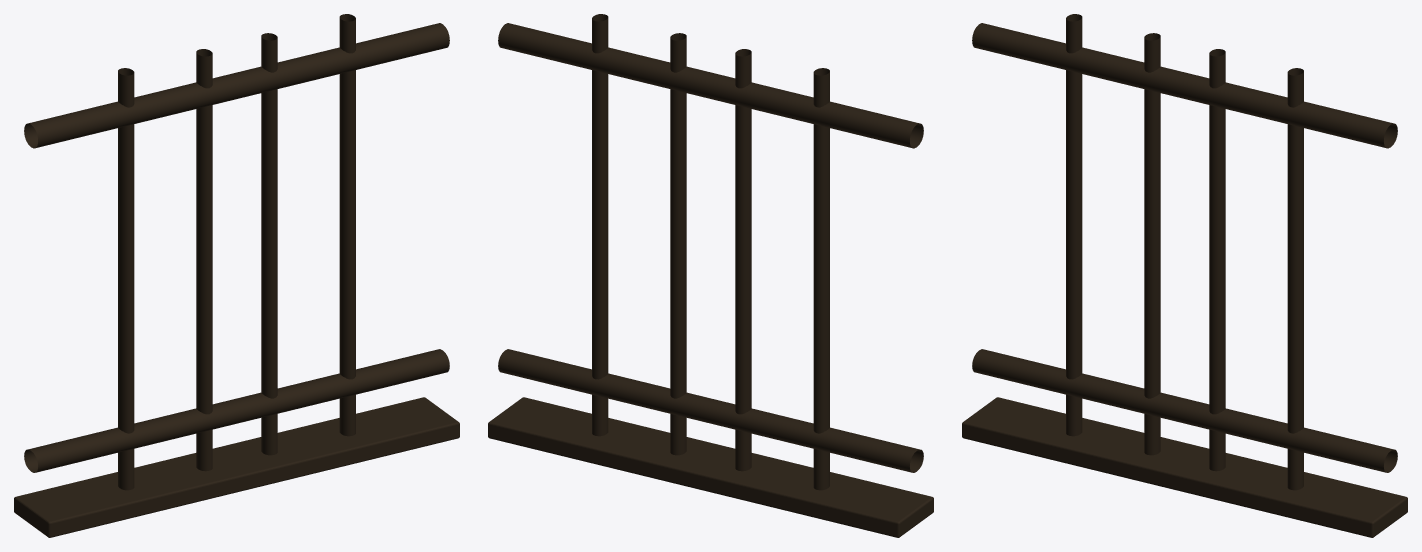
Rendered from GrataBot.fbx.
3 renders of one model, left to right at view 1: azimuth 30°, elevation 25°; view 2: azimuth 150°, elevation 25°; view 3: azimuth 330°, elevation 25°, orthographic.
Parts seen in each view (by area): view 1: Cube.004, GrataBot, Cube.041; view 2: Cube.004, GrataBot, Cube.041; view 3: Cube.004, GrataBot, Cube.041.
Part boxes in pixels (x1=…): Cube.004: x1=118, y1=14, x2=355, y2=490; GrataBot: x1=24, y1=23, x2=449, y2=472; Cube.041: x1=14, y1=397, x2=459, y2=537; Cube.004: x1=592, y1=14, x2=829, y2=490; GrataBot: x1=498, y1=23, x2=923, y2=472; Cube.041: x1=488, y1=397, x2=933, y2=537; Cube.004: x1=1066, y1=14, x2=1303, y2=490; GrataBot: x1=972, y1=23, x2=1397, y2=472; Cube.041: x1=962, y1=397, x2=1407, y2=537.
Bounding box in the file's own units: 200 × 200 × 30.
